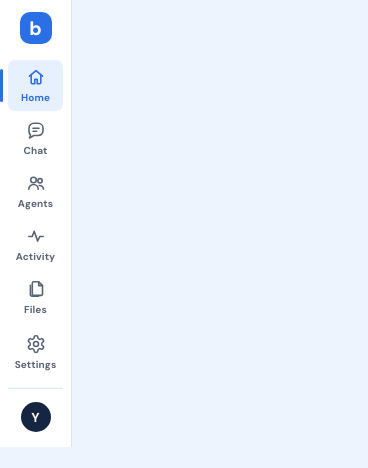
Reload in the owner menu › is there inside buddi.app, whose window has no reload of its own
This screenshot has width=368, height=468.
What coordinates should you click on to do the following:
click the button named "You"
I would click on:
 (36, 417)
Its box is [18,399,54,435].
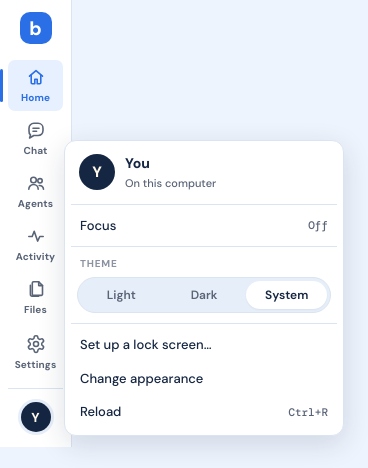
Expected: the menu item "Change appearance" is shown, [80,370,203,386]
Expected: the menu item "Reload Ctrl+R" is shown, [80,403,328,420]
